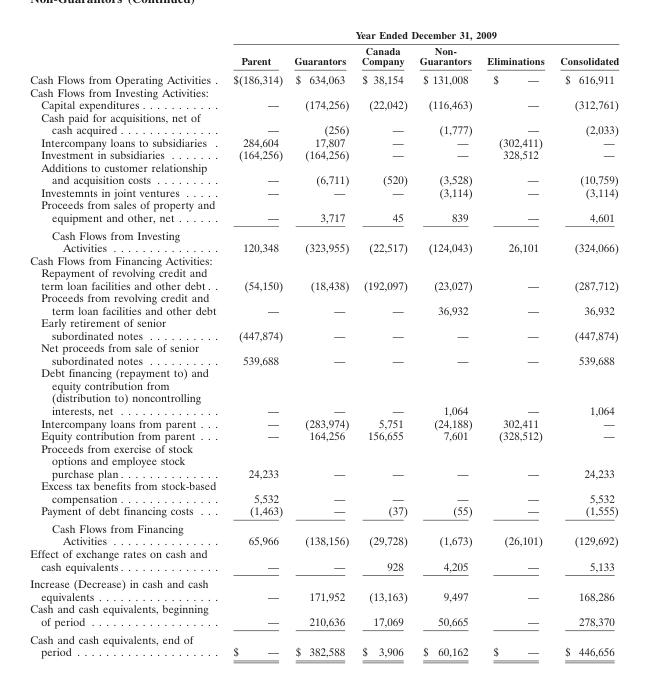table: (29, 28, 618, 657)
table column: (29, 28, 224, 657), (479, 28, 551, 657), (287, 28, 354, 657), (412, 28, 479, 657), (551, 28, 618, 657), (224, 28, 287, 657), (354, 28, 412, 657)
table column header: (29, 28, 618, 69)
table projected row header: (29, 85, 618, 97)
table row: (29, 366, 618, 416), (29, 253, 618, 291), (29, 441, 618, 479), (29, 225, 618, 253), (29, 546, 618, 574), (29, 574, 618, 602), (29, 629, 618, 657), (29, 42, 618, 69), (29, 198, 618, 225), (29, 519, 618, 546), (29, 602, 618, 629), (29, 110, 618, 135), (29, 160, 618, 185), (29, 291, 618, 316), (29, 316, 618, 341), (29, 341, 618, 366), (29, 479, 618, 504), (29, 69, 618, 85), (29, 504, 618, 519), (29, 28, 618, 42), (29, 97, 618, 110), (29, 135, 618, 148), (29, 185, 618, 198), (29, 428, 618, 441), (29, 85, 618, 97), (29, 148, 618, 160), (29, 416, 618, 428)
table spanning cell: (224, 28, 618, 42)
